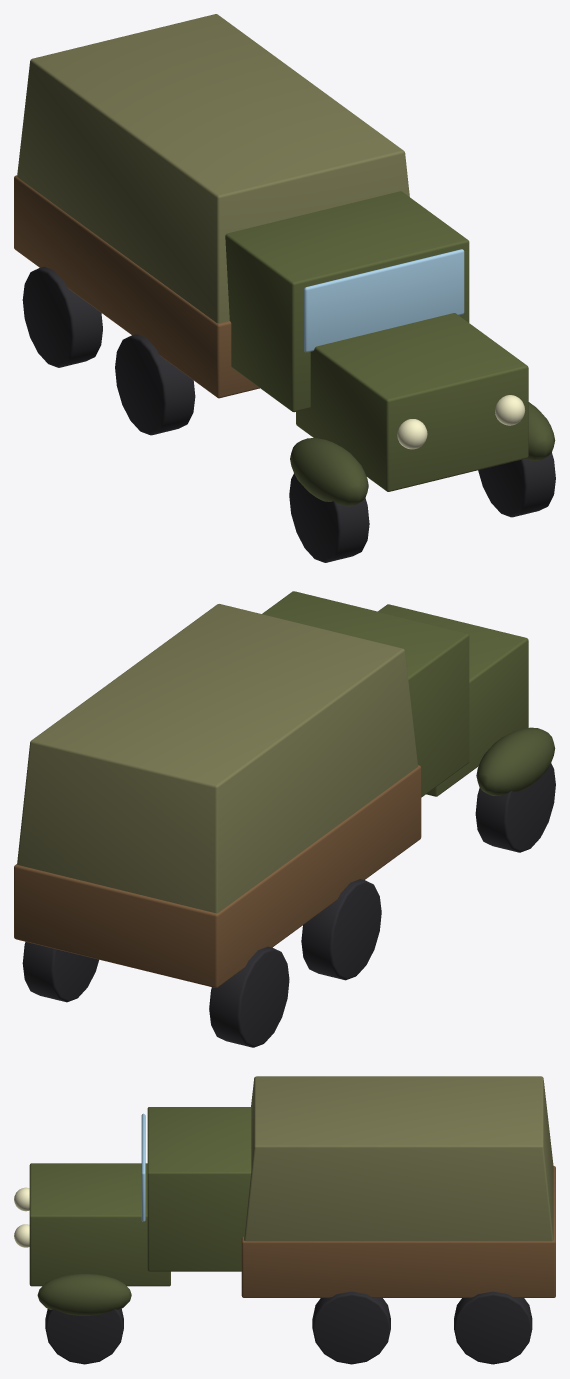
Rendered from caminhao_antigo.glb.
The picture shows the model from 3 angles, top to bottom: view 1: azimuth 30°, elevation 25°; view 2: azimuth 150°, elevation 25°; view 3: azimuth 270°, elevation 25°; orthographic projection. The views are drawn at different scales.
Parts seen in each view (by area): view 1: caminhao_antigo; view 2: caminhao_antigo; view 3: caminhao_antigo.
Part boxes in pixels (x1,y1,x2,y2): caminhao_antigo: (14,14,555,562); caminhao_antigo: (14,591,555,1047); caminhao_antigo: (14,1076,555,1364).
Size of the model in its own units: 2.64 by 3 by 6.9.
